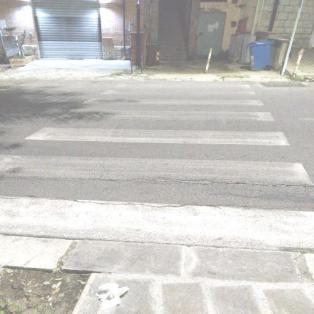Paso de Cebra: (19, 107, 294, 152)
